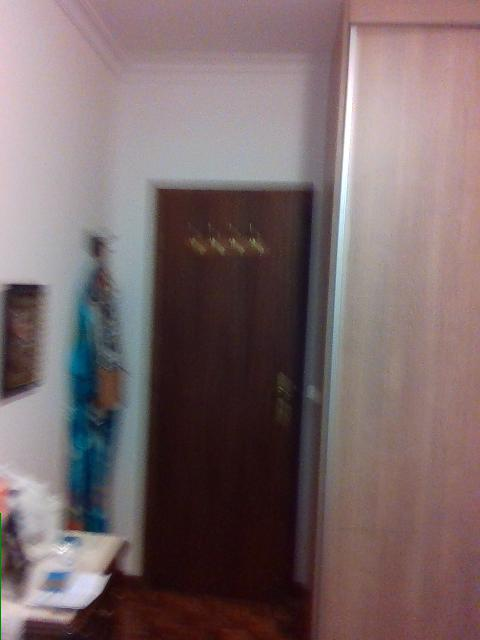door: (137, 178, 312, 601)
